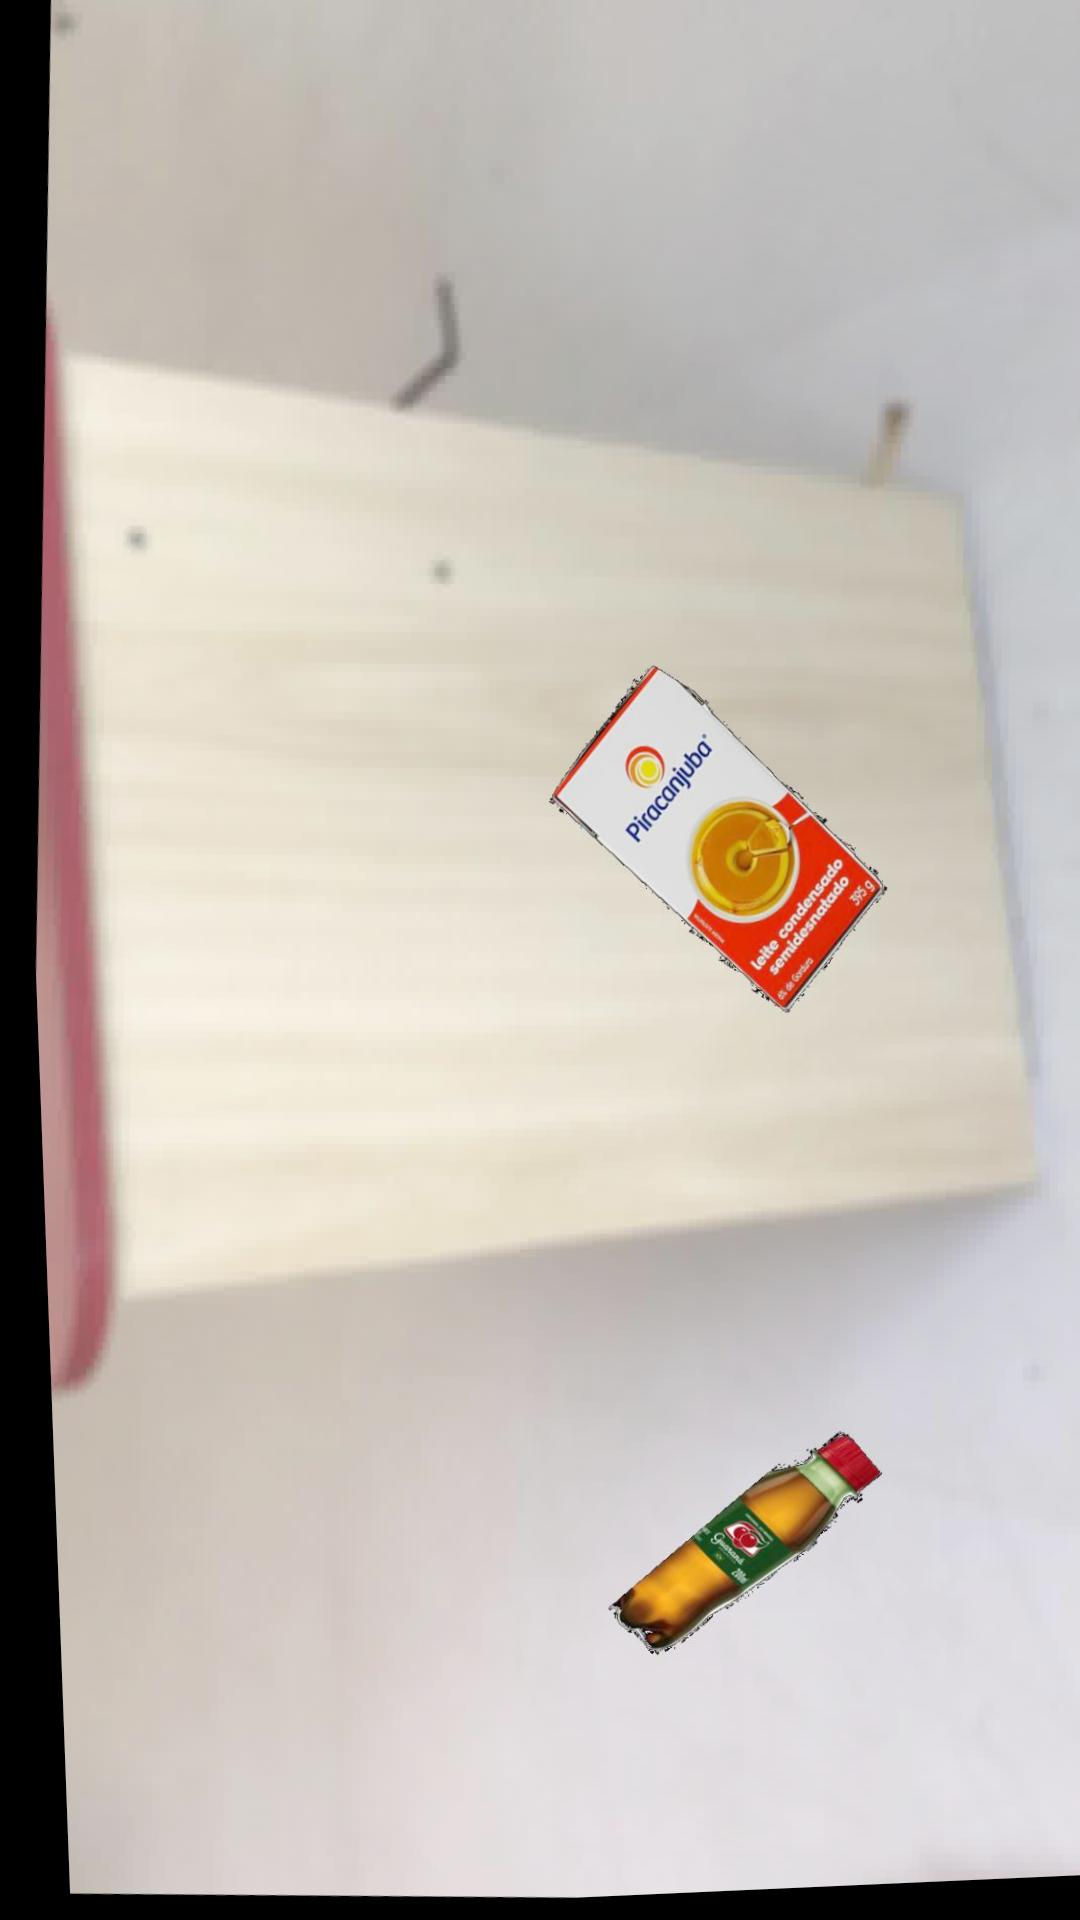guarana: (597, 1440, 870, 1660)
